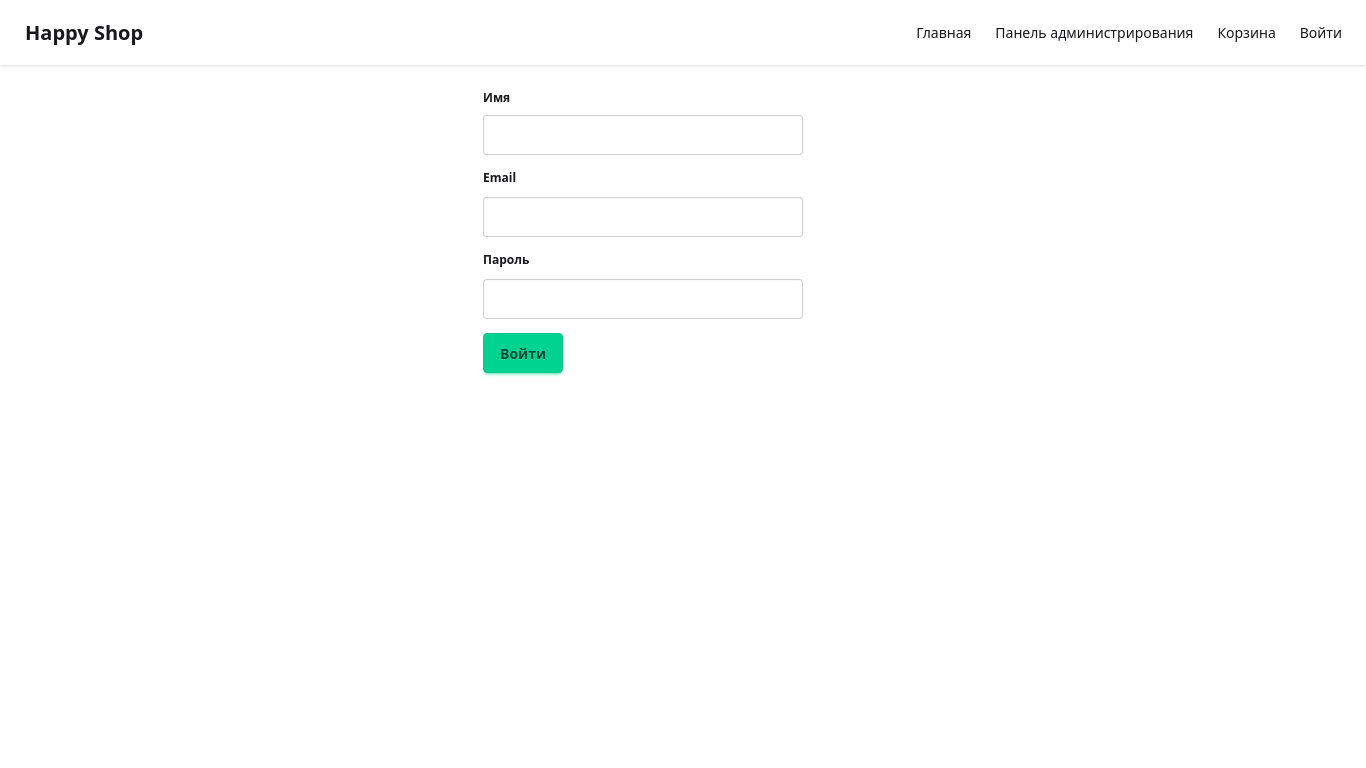
Login testing › successful login
The image size is (1366, 768).
Type "testuser" into the 1st field at (643, 135), box [483,115,803,155]
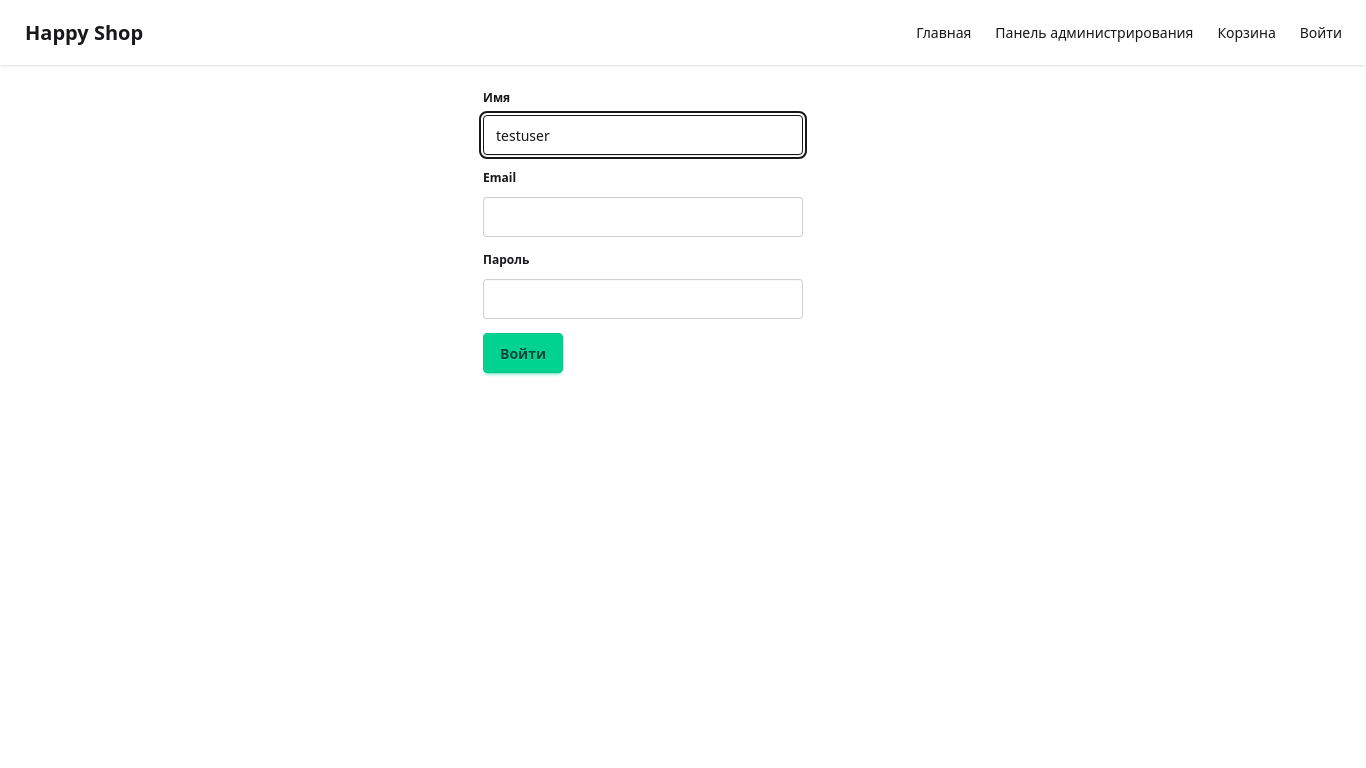
Type "test@example.com" into the 2nd field at (643, 217), box [483,197,803,237]
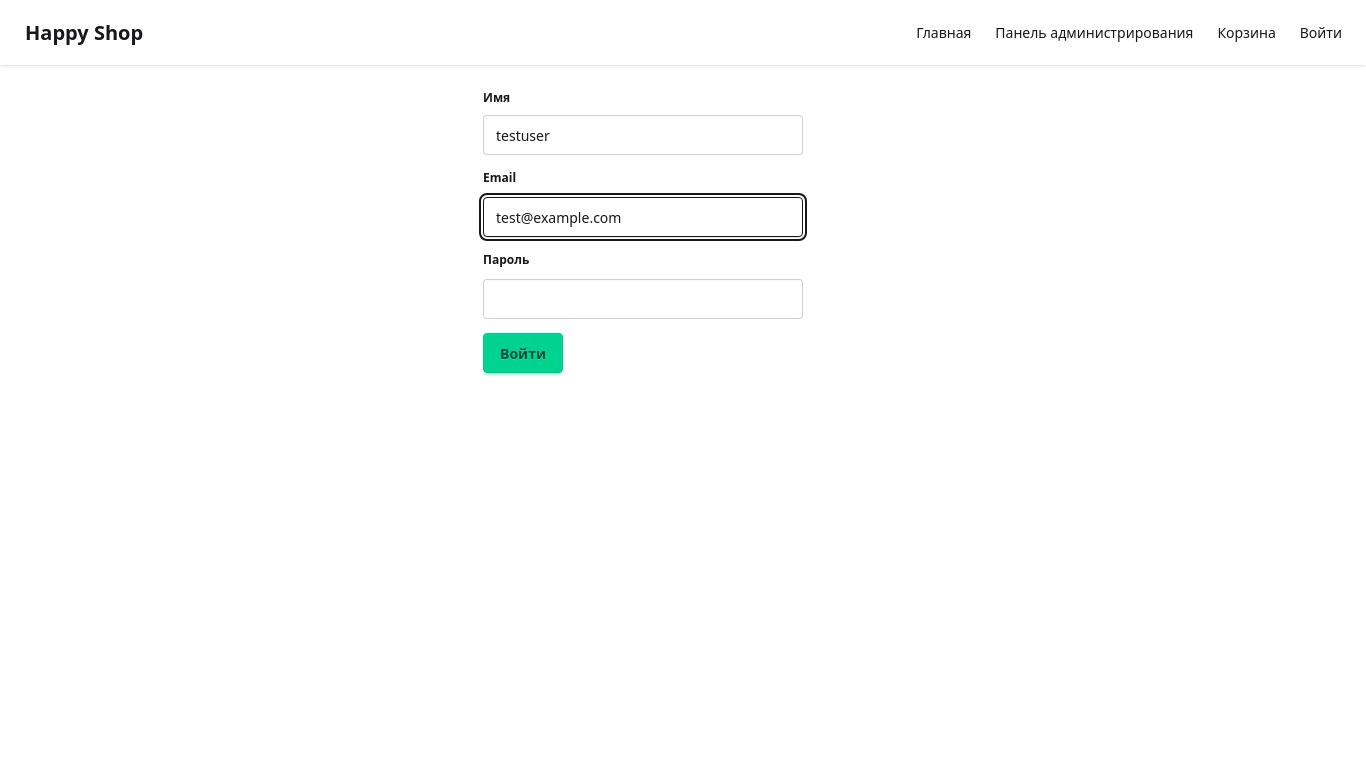
Type "password123" into the password field at (643, 299), box [483,279,803,319]
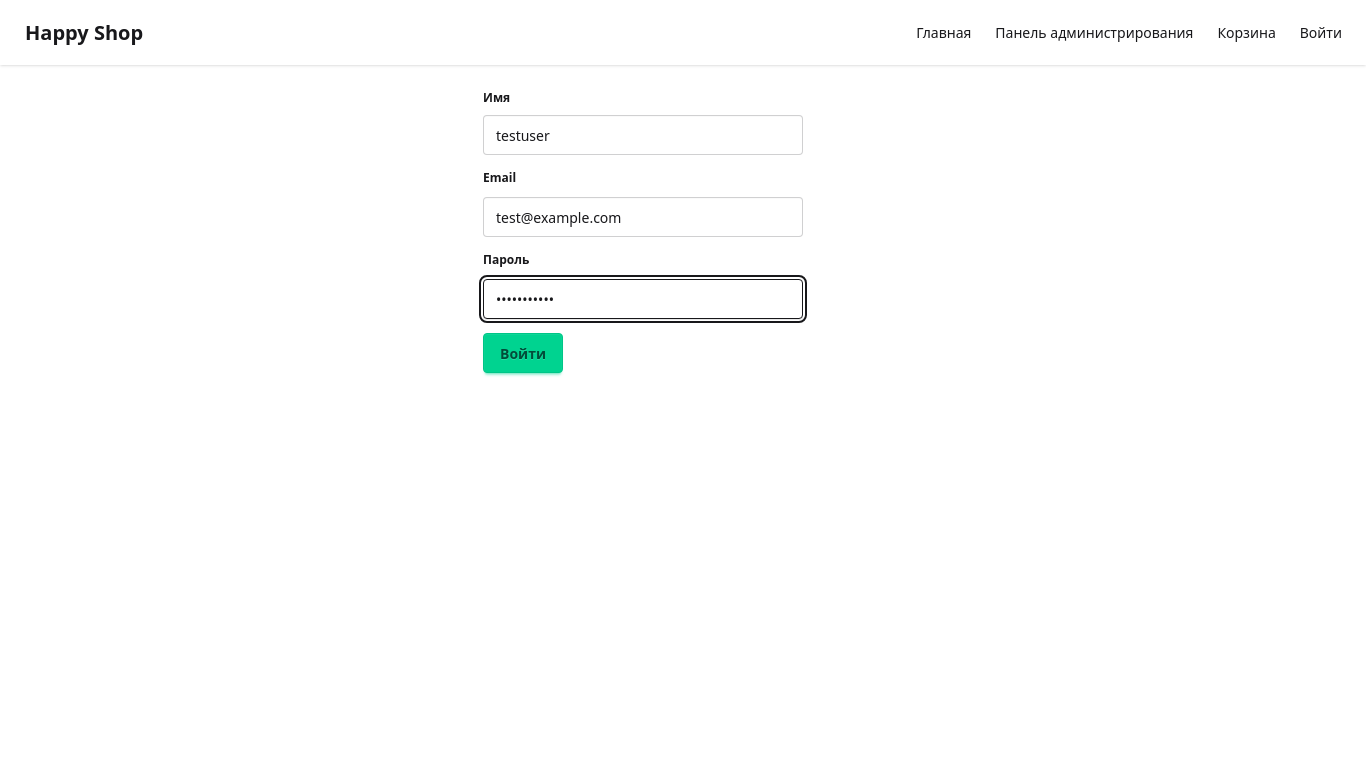
Click the button "Войти" at (523, 353), box [483,333,563,373]
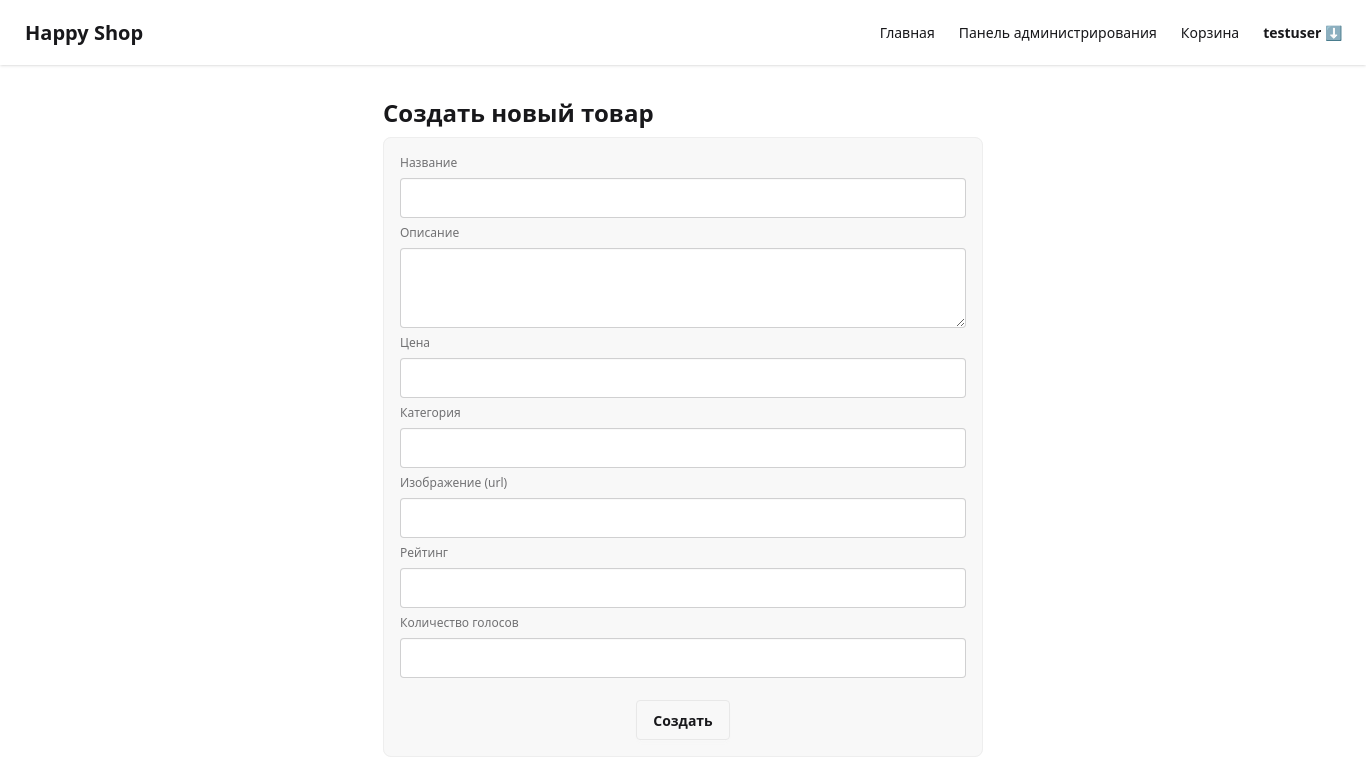
Expected: the heading "Создать новый товар" is shown, [383,96,654,129]
